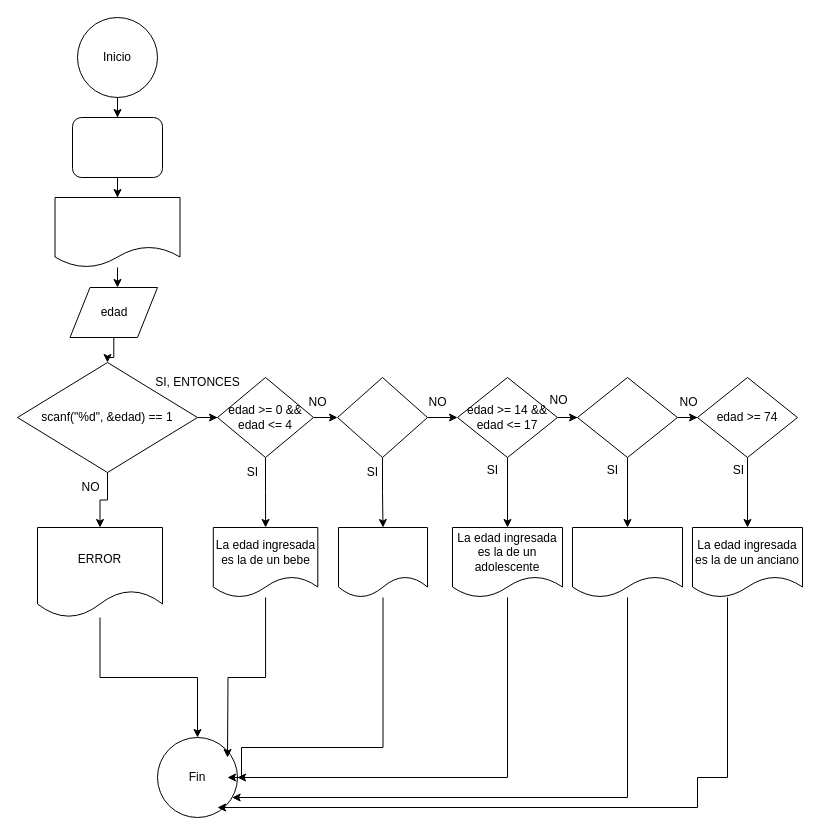
Image size: 820x835. Some labels were removed from this diagram. The box of each missing label's shape, as (x1, y1, x2, y2) in pixels:
"Ingrese su edad: ": (54, 196, 180, 268)
edad >= 18 && edad <= 73: (576, 376, 678, 458)
edad >= 5 && edad <= 12: (336, 376, 428, 458)
int edad = 0;: (72, 116, 162, 178)
La edad ingresada es la de un adulto: (572, 526, 682, 598)
La edad ingresada es la de un niño: (338, 526, 428, 598)
